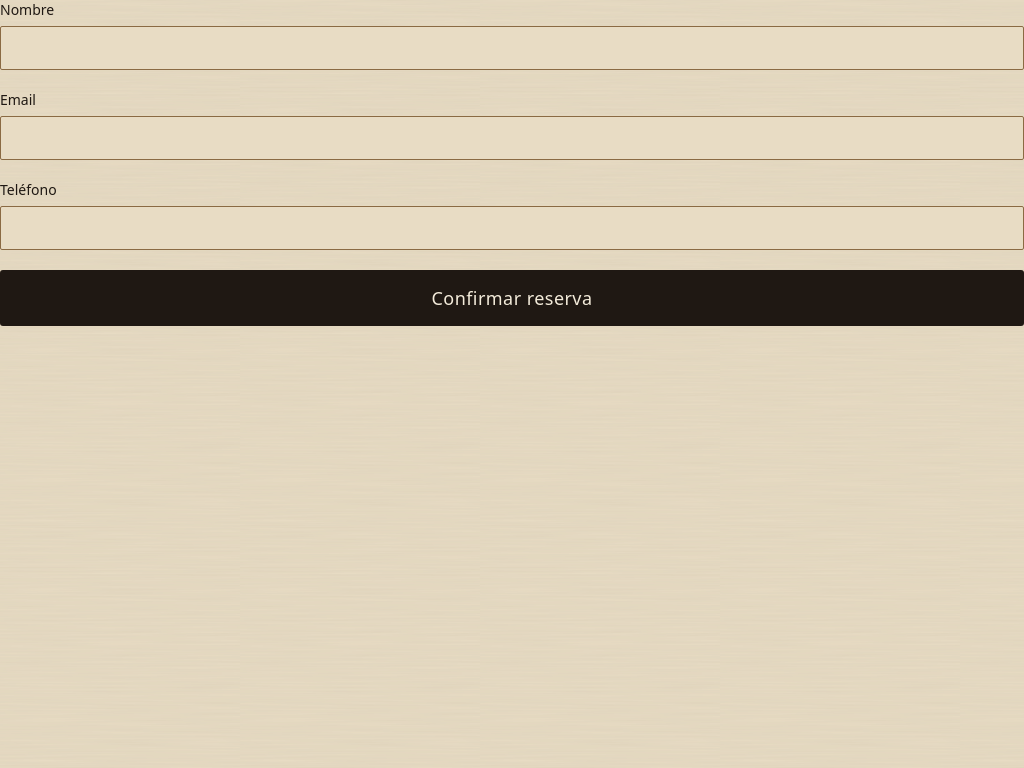
Scenario: FormularioDatosContacto - validación en línea › marca un email sin arroba al salir del campo
Type "ana.perez" into the field labelled "Email" at (512, 138), box x1=0 y1=116 x2=1023 y2=160
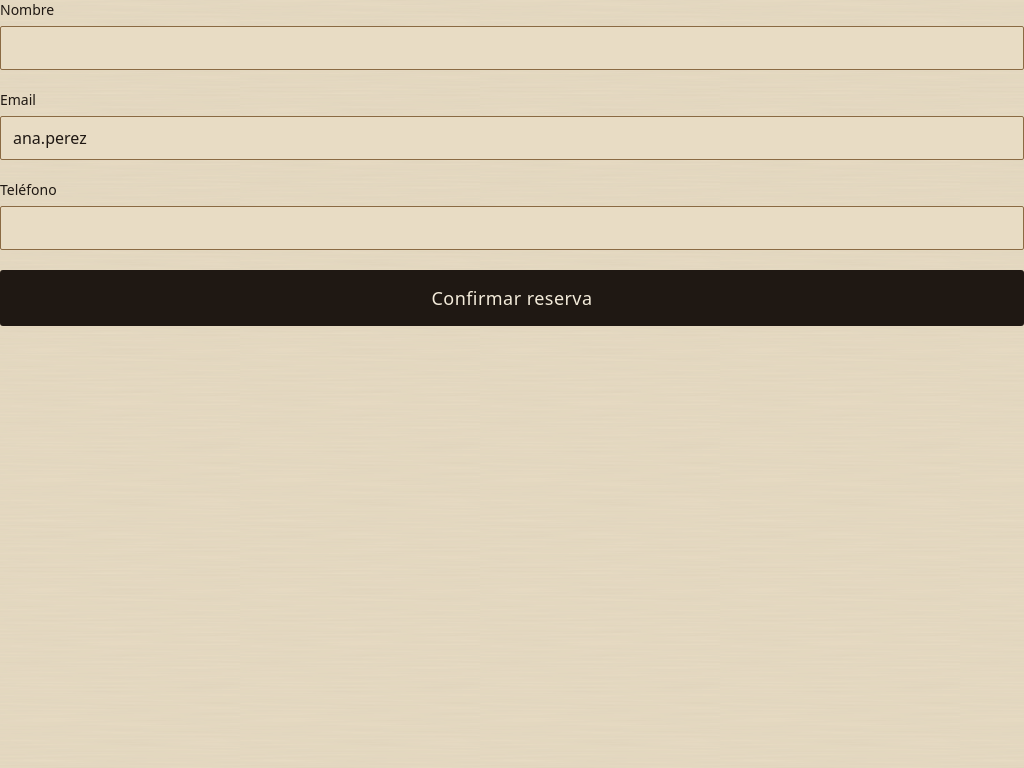
Leave the field labelled "Email", box x1=0 y1=116 x2=1023 y2=160
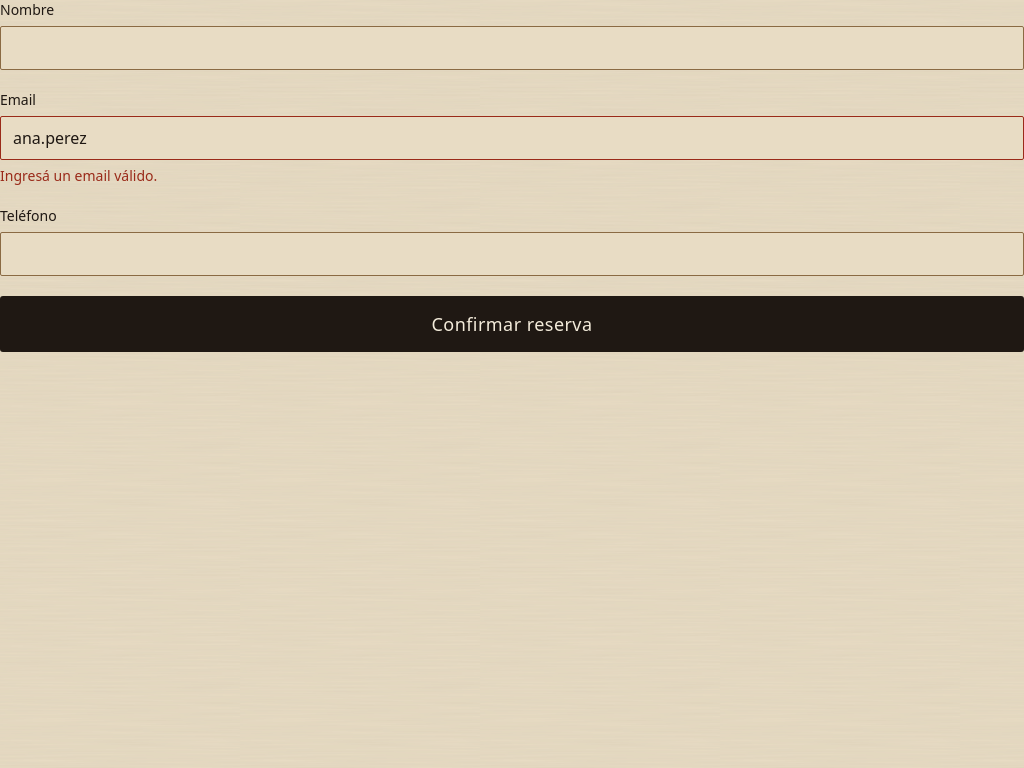
Now the text "Ingresá un email válido." is shown, box x1=0 y1=166 x2=157 y2=185
